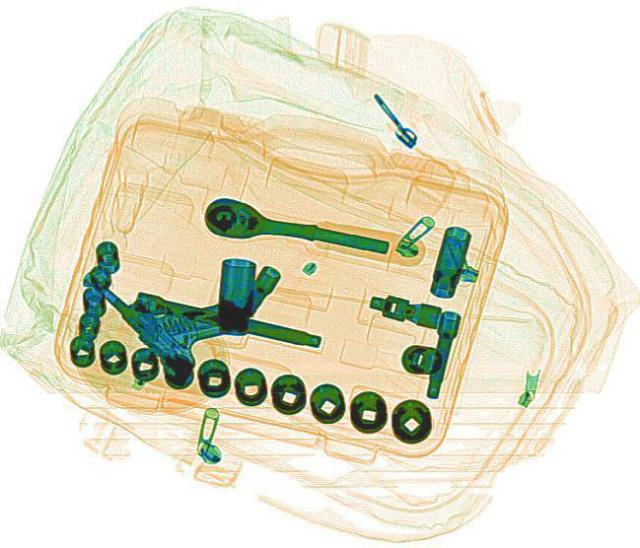Gun: (79, 231, 253, 375)
